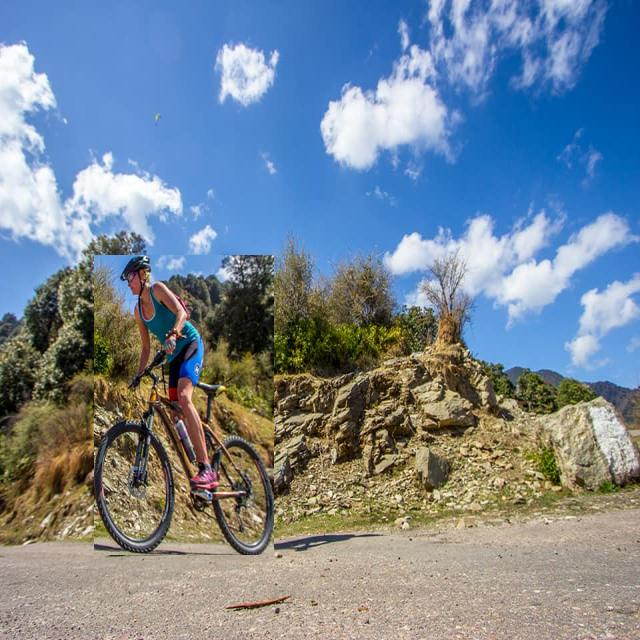bicycle: (94, 255, 274, 555)
